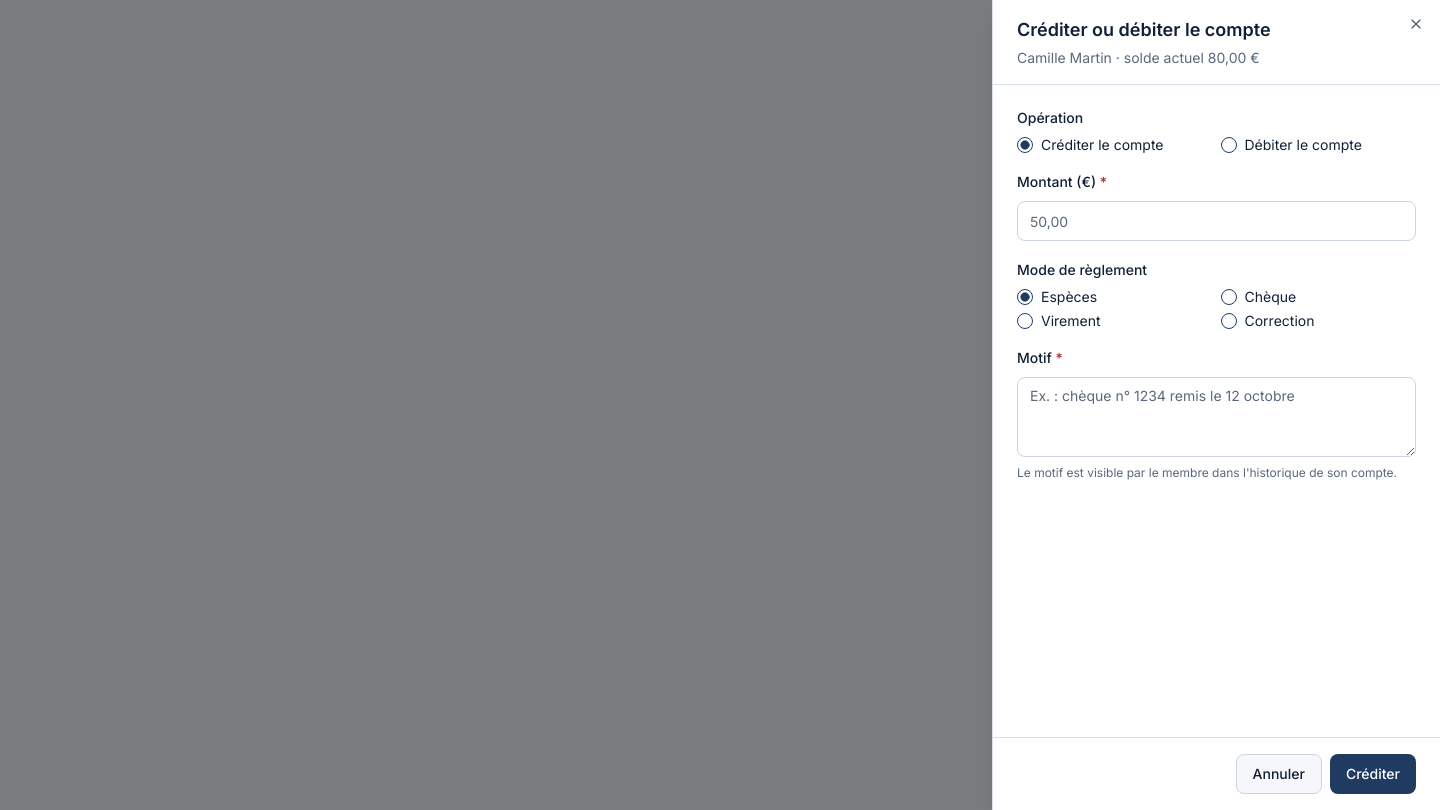
Créditer ou débiter le compte d'un membre › refuse un débit supérieur au solde sans appeler l'API
Click the 2nd radio button named "Débiter le compte".
click(1228, 145)  # box [1220,137,1236,153]
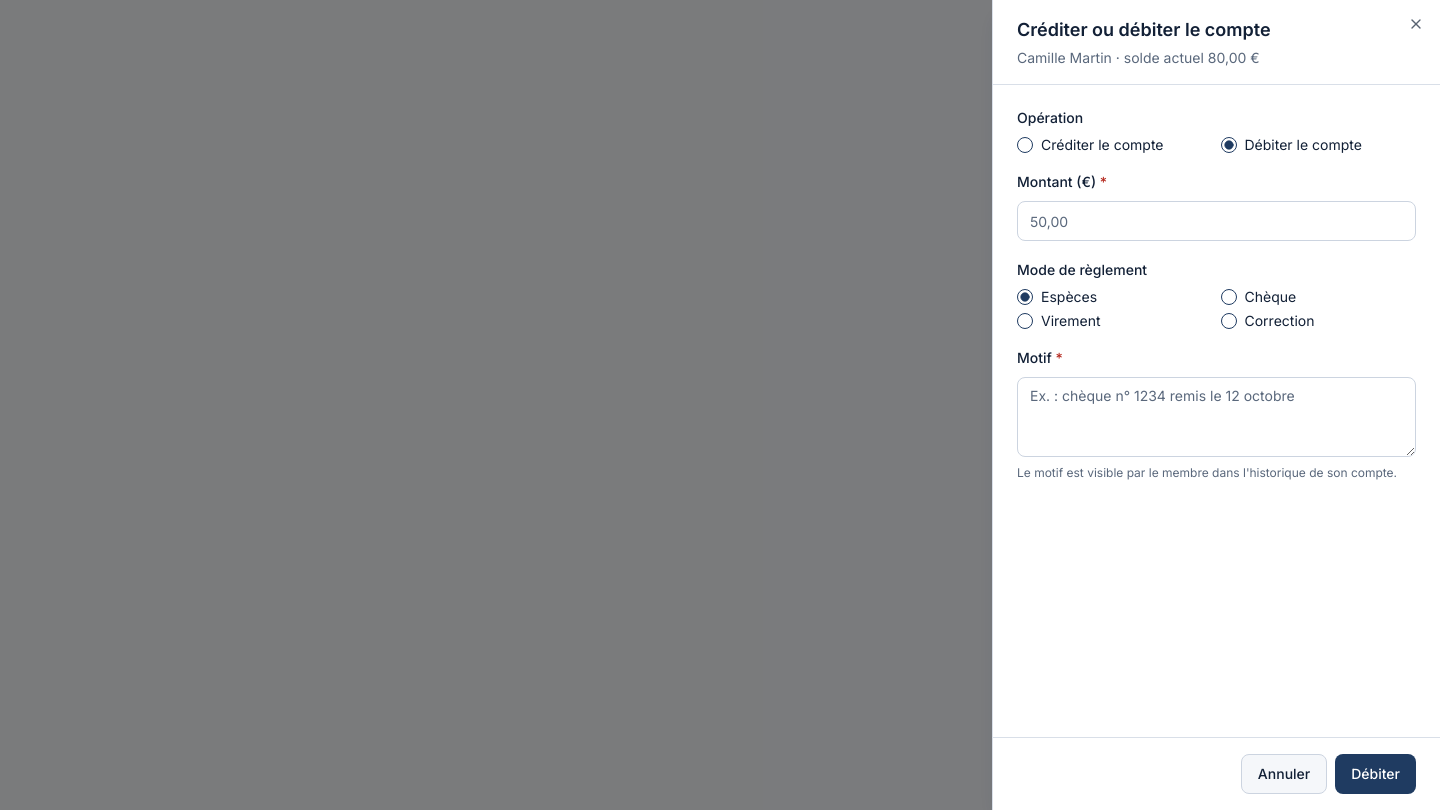
Type "80,01" into the field labelled "Montant (€) *".
click(1216, 221); type("80,01")  # box [1017,201,1416,241]
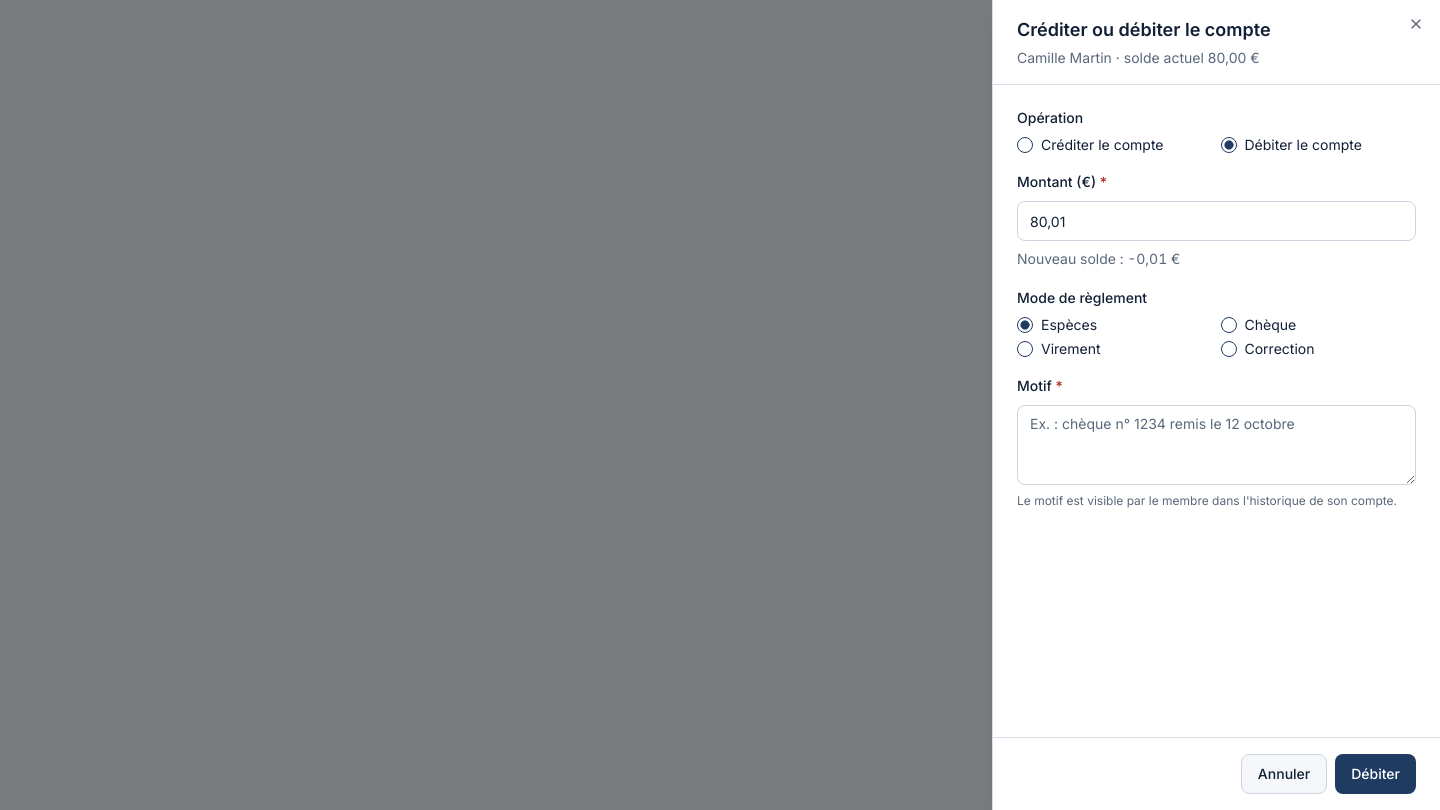
Type "Correction d'une erreur de saisie" into the text box labelled "Motif *".
click(1216, 445); type("Correction d'une erreur de saisie")  # box [1017,405,1416,485]
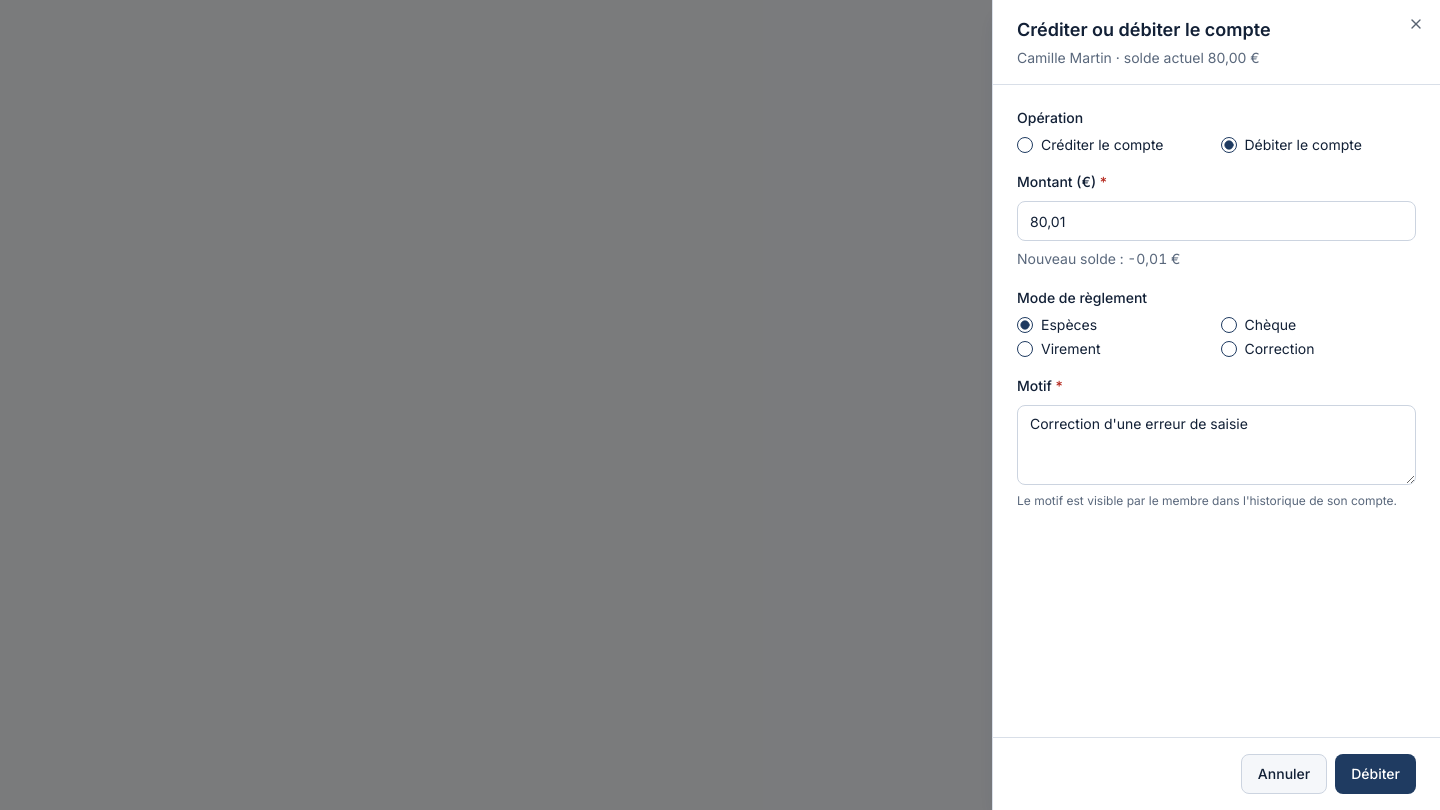
Click the button "Débiter".
click(1376, 774)  # box [1335,754,1416,794]
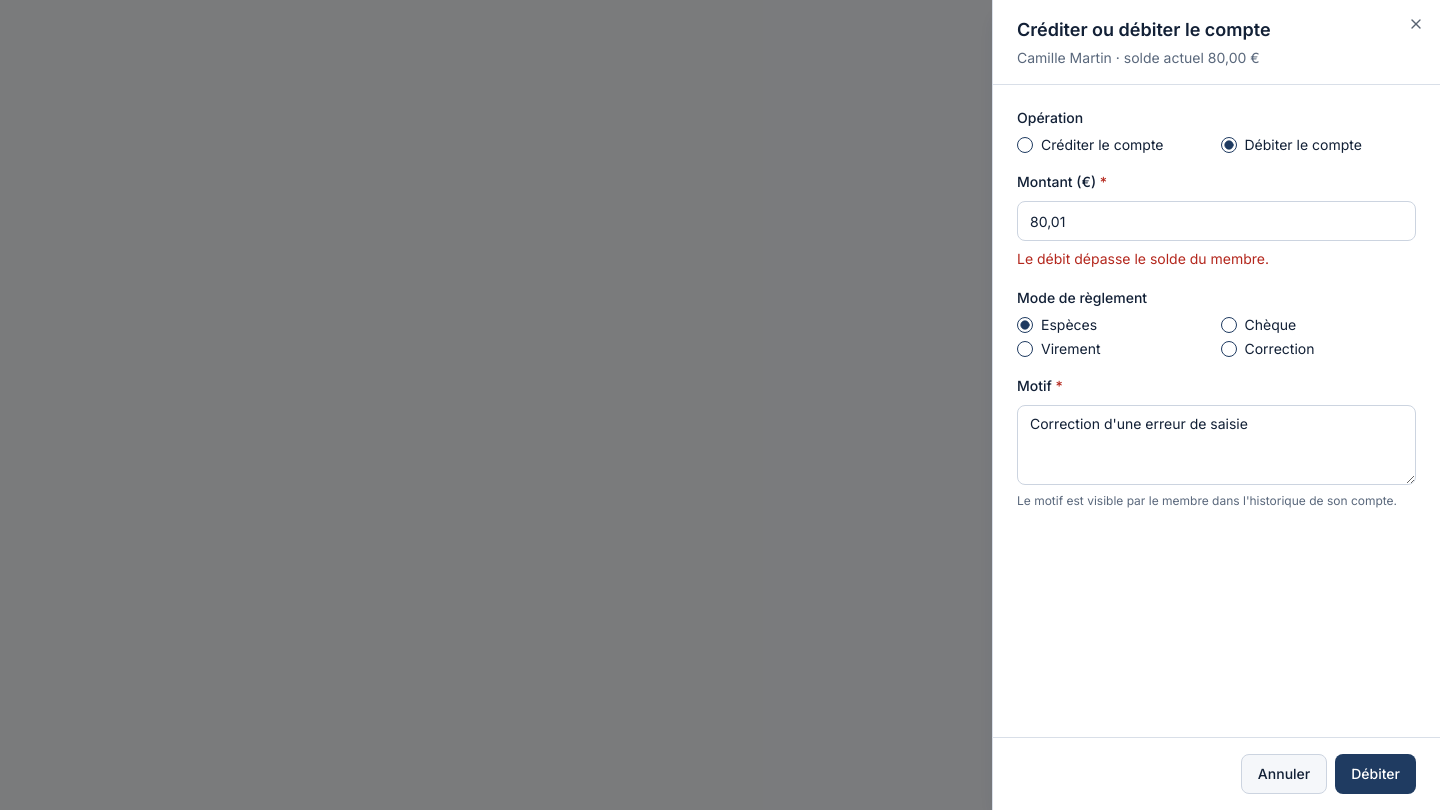
Check: the text "Le débit dépasse le solde du membre." is shown, box [1017,250,1269,267]
